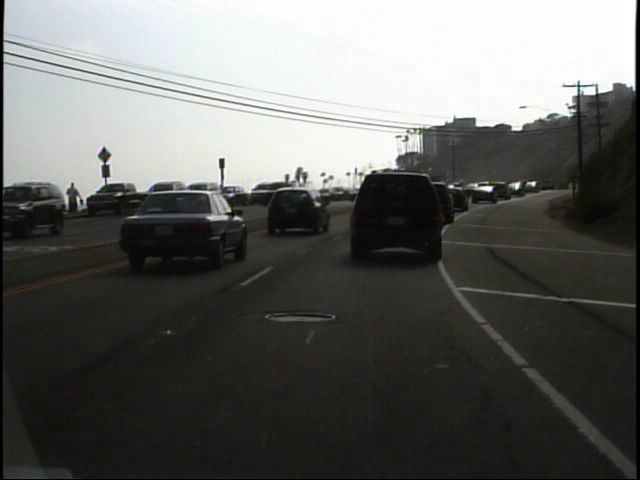person: (64, 179, 85, 219)
